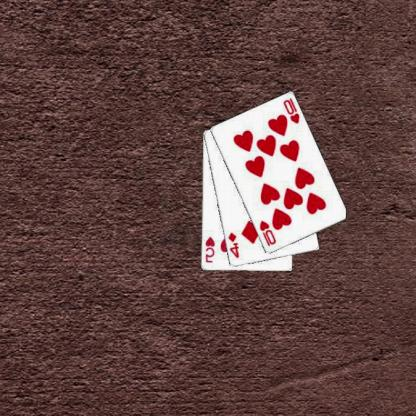10H: (259, 218, 279, 247), (282, 96, 302, 125)
4D: (227, 230, 242, 259)
5H: (204, 235, 218, 264)
